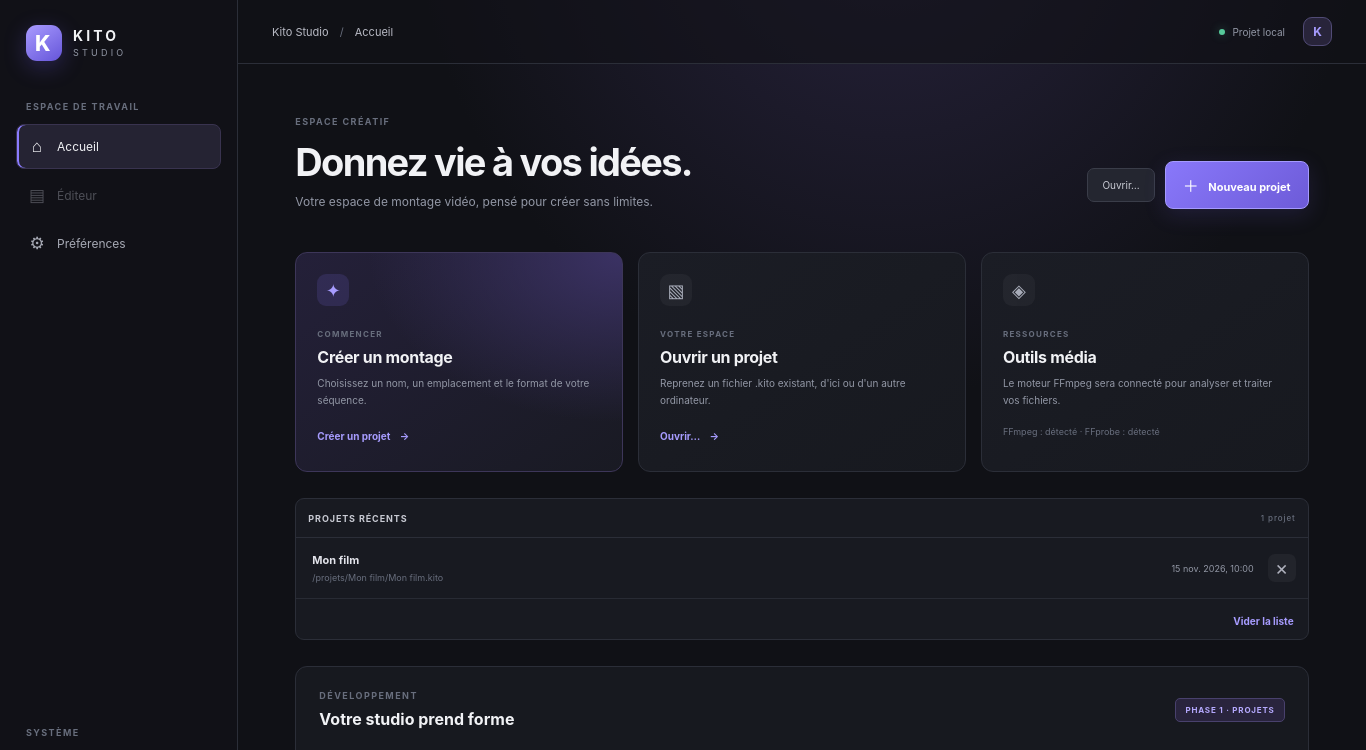
ouverture › informe qu'un projet a été converti depuis un ancien format
Click the text "Mon film": x=336, y=560 [312,553,359,567]
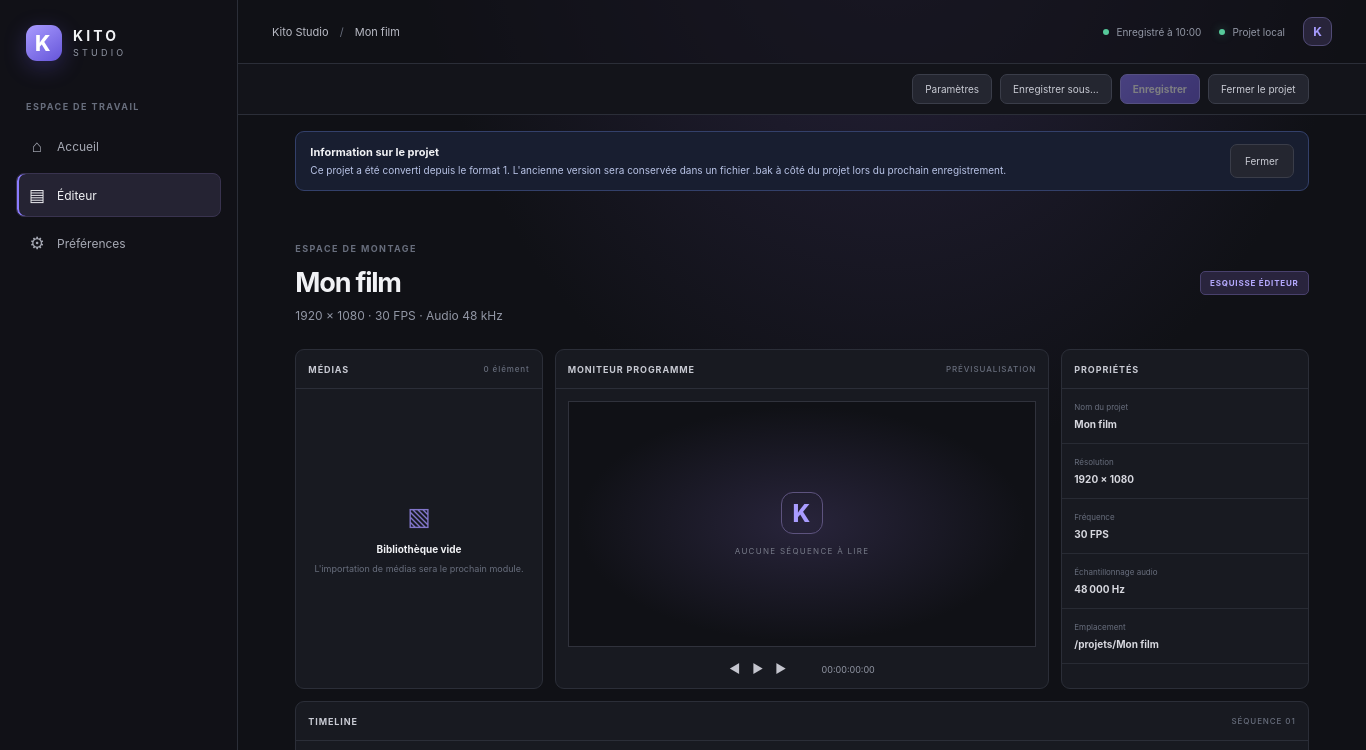
Check: the heading "Mon film" is shown, box [295,266,401,299]
Check: the text "converti depuis le format 1" is shown, box [310,164,1006,176]
